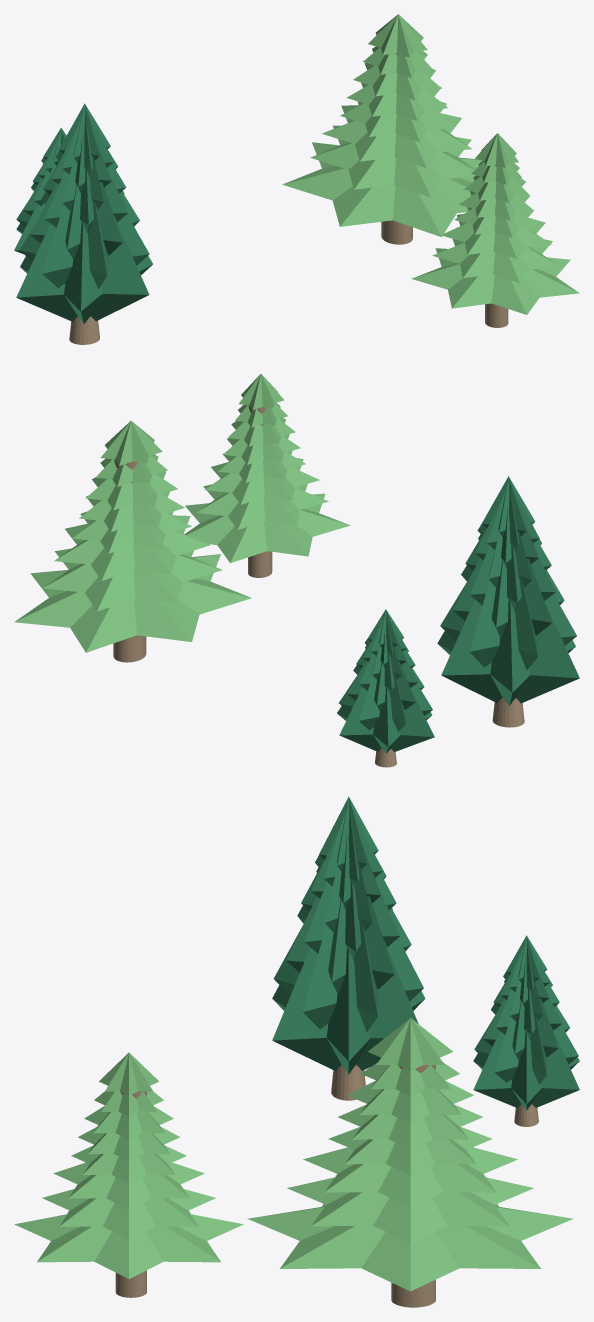
The model's file is 4trees.glb.
3 views of the same model, one above another, from view 1: azimuth 30°, elevation 25°; view 2: azimuth 150°, elevation 25°; view 3: azimuth 270°, elevation 25° (orthographic). The views are drawn at different scales.
Parts seen in each view (by area): view 1: Mesh_Mesh_head_geo.001_lambert2SG.001; view 2: Mesh_Mesh_head_geo.001_lambert2SG.001; view 3: Mesh_Mesh_head_geo.001_lambert2SG.001.
Boxes of the visible parts, <box> form: Mesh_Mesh_head_geo.001_lambert2SG.001: <box>14,14,579,344</box>; Mesh_Mesh_head_geo.001_lambert2SG.001: <box>14,374,579,767</box>; Mesh_Mesh_head_geo.001_lambert2SG.001: <box>14,796,579,1307</box>.
Size of the model in its own units: 0.235 by 0.105 by 0.182.
